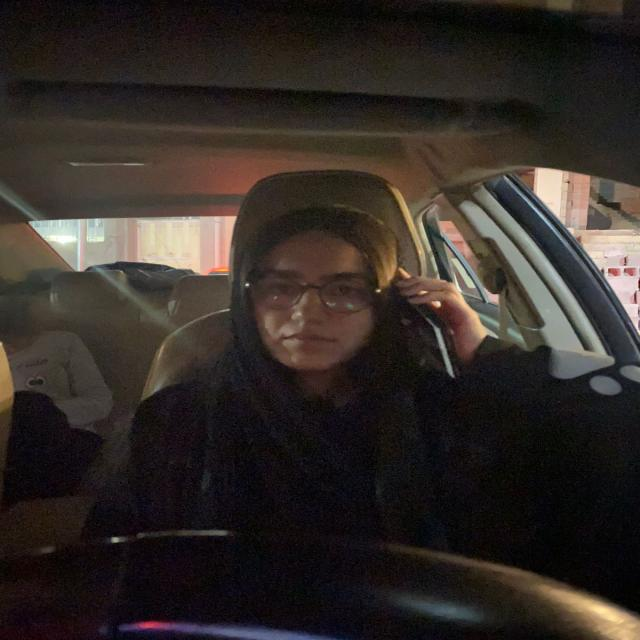mobile: (390, 290, 463, 383)
person: (238, 212, 388, 372)
